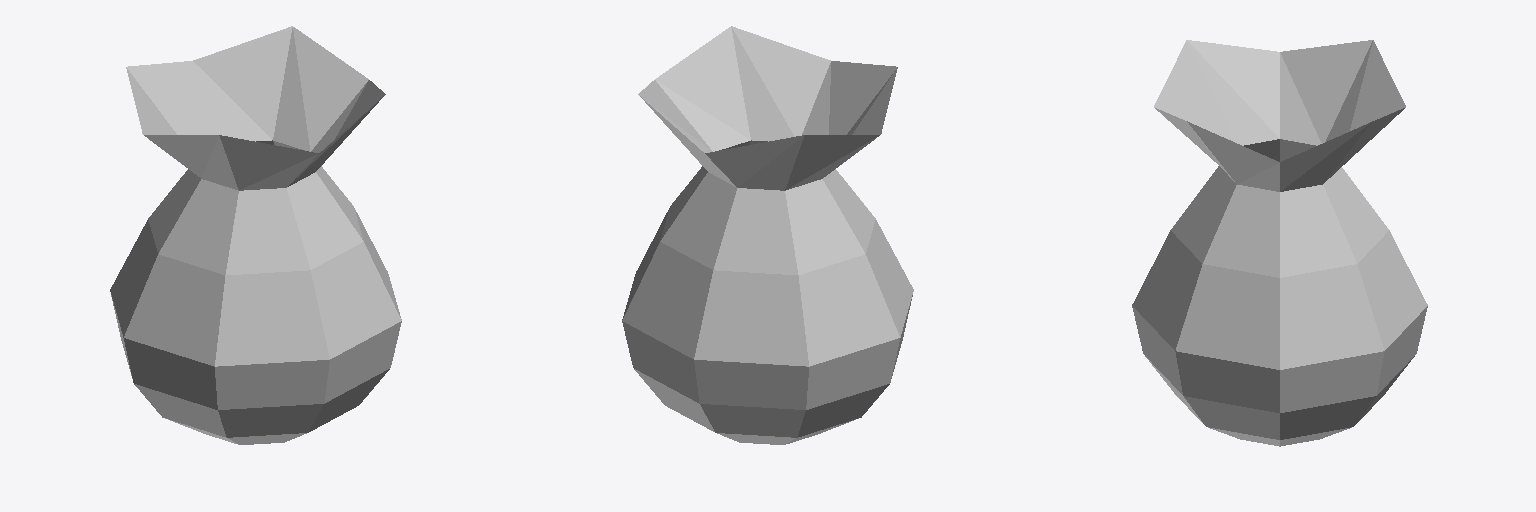
Rendered from Item Bag.obj.
3 views of the same model, side by side, from view 1: azimuth 30°, elevation 25°; view 2: azimuth 150°, elevation 25°; view 3: azimuth 270°, elevation 25° (orthographic).
Visible parts, largest first — view 1: Mesh_0342; view 2: Mesh_0342; view 3: Mesh_0342.
Part boxes in pixels (x1,y1,x2,y2): Mesh_0342: (110, 26, 401, 444); Mesh_0342: (622, 26, 913, 444); Mesh_0342: (1132, 40, 1427, 446).
Bounding box in the file's own units: 0.792 × 1 × 0.7669.